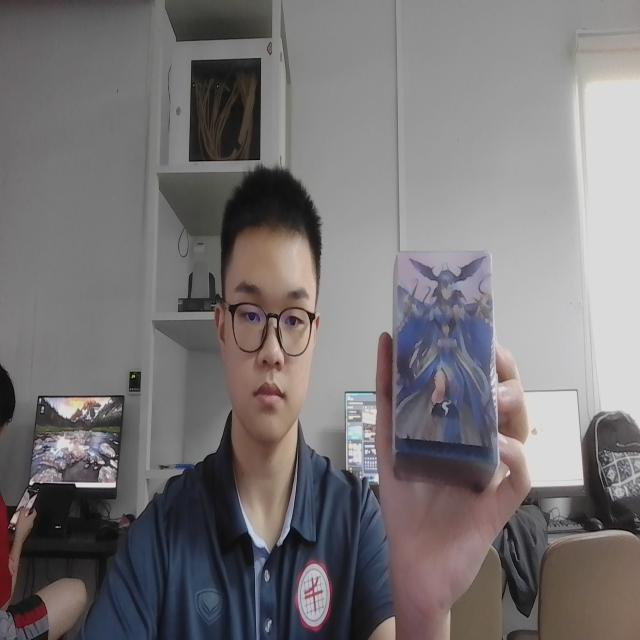box: (384, 232, 508, 503)
